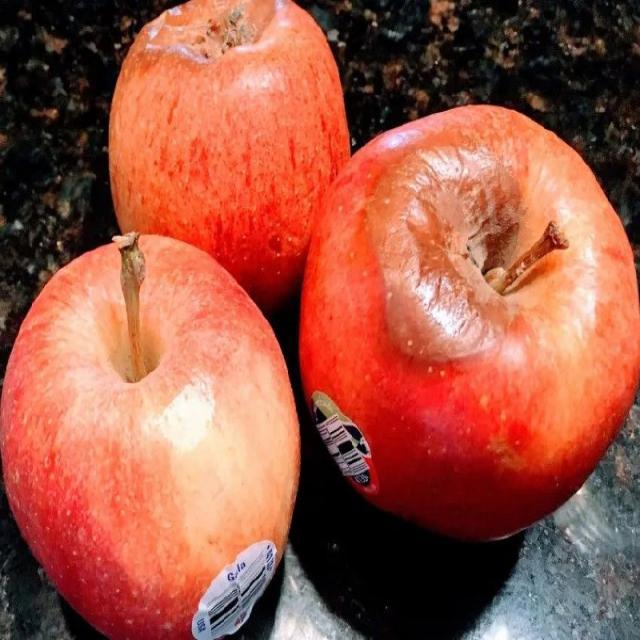Fresh Apple: (0, 231, 291, 639), (107, 7, 365, 290)
Rotten: (318, 119, 638, 518)
